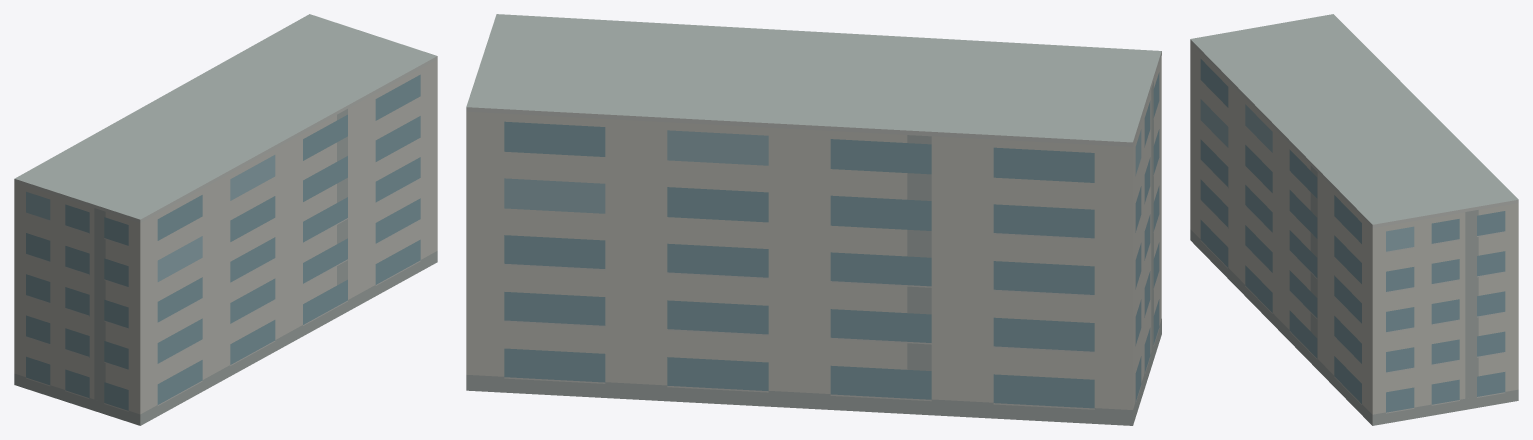
Rendered from survey-upis-32851679.glb.
The picture shows the model from 3 angles, left to right: view 1: azimuth 30°, elevation 25°; view 2: azimuth 150°, elevation 25°; view 3: azimuth 270°, elevation 25°; orthographic projection. The views are drawn at different scales.
Visible parts, largest first — view 1: survey-upis-32851679.tmp; view 2: survey-upis-32851679.tmp; view 3: survey-upis-32851679.tmp.
Boxes of the visible parts, left/top/right/bottom form: survey-upis-32851679.tmp: left=14, top=14, right=437, bottom=425; survey-upis-32851679.tmp: left=466, top=14, right=1161, bottom=425; survey-upis-32851679.tmp: left=1190, top=14, right=1518, bottom=425.
Size of the model in its own units: 34.29 by 15.25 by 22.58.
